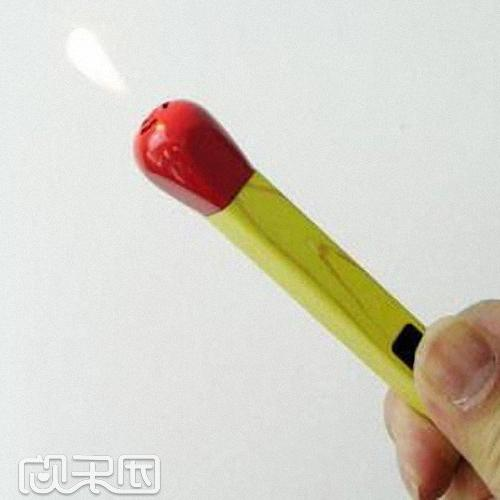fire: (50, 20, 136, 121)
